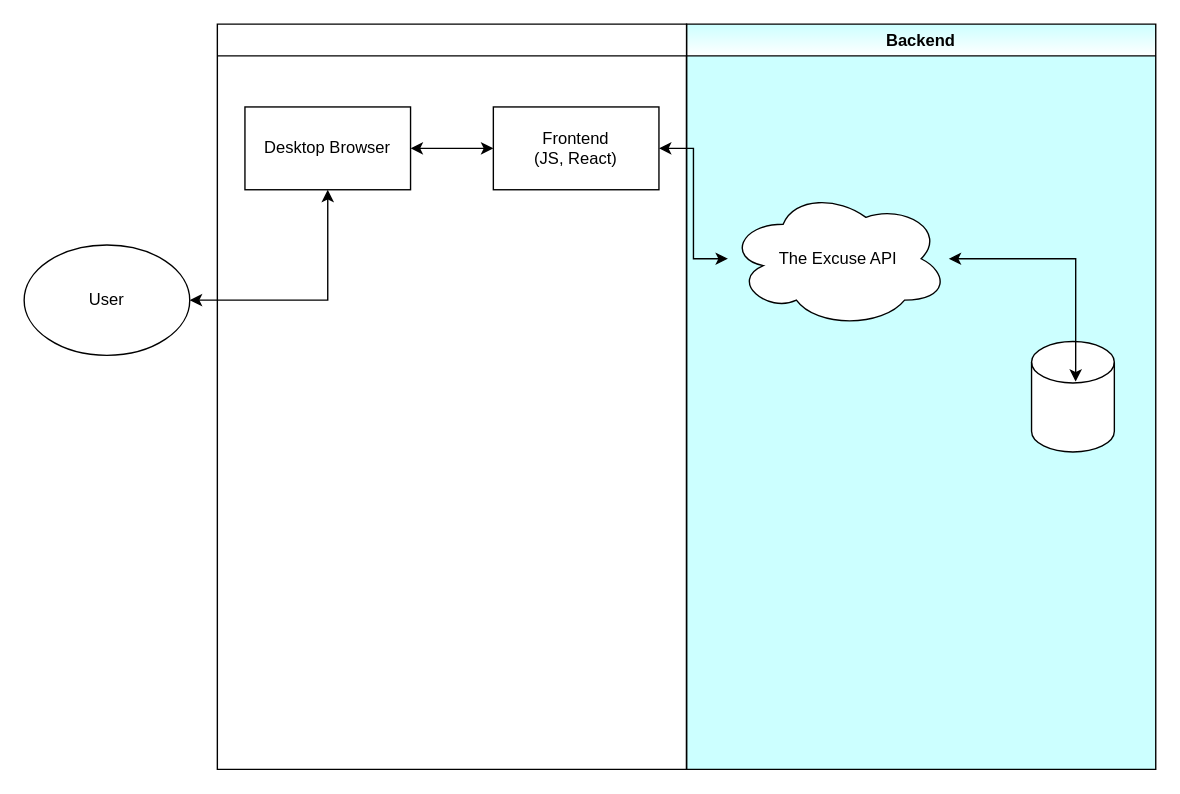
This 1180x794 diagram has some shape labels left out. Each missing label, with the centre of its shape:
"Excuses DB" belongs at point 1072,396.
"Frontend" belongs at point 451,396.
